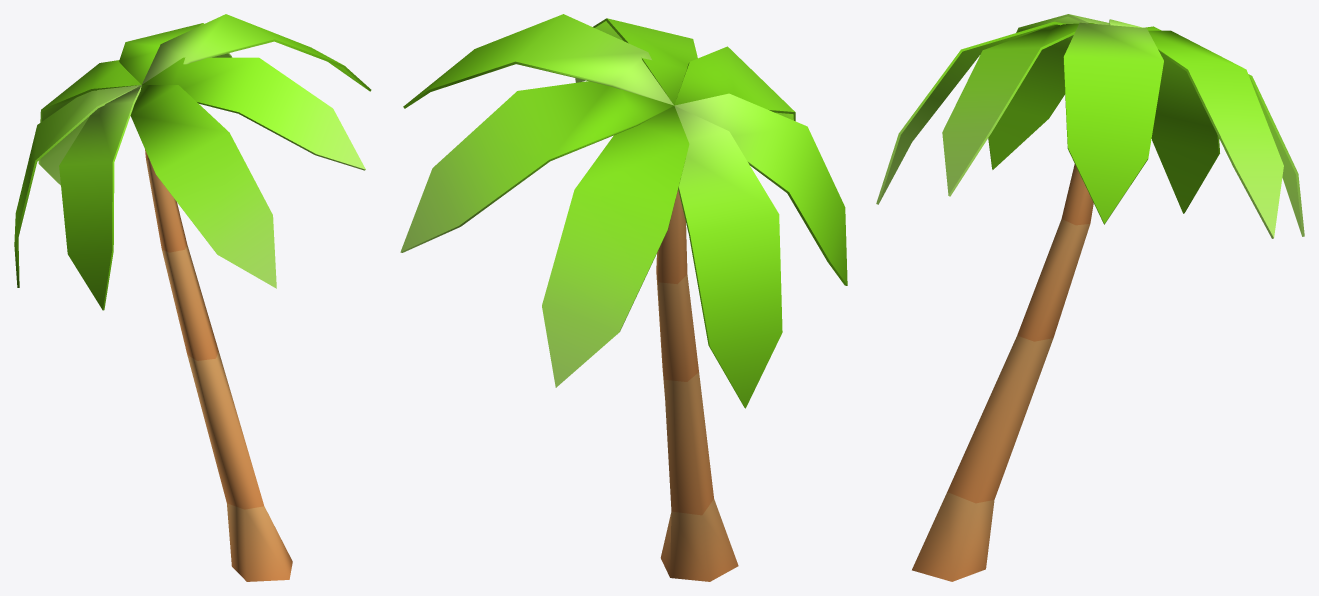
File: Palm_Tree.fbx
The picture shows the model from 3 angles, left to right: view 1: azimuth 30°, elevation 25°; view 2: azimuth 150°, elevation 25°; view 3: azimuth 270°, elevation 25°; orthographic projection. The views are drawn at different scales.
Visible parts, largest first — view 1: Palm_Tree; view 2: Palm_Tree; view 3: Palm_Tree.
Boxes of the visible parts, x1,y1,x2,y2 form: Palm_Tree: (14,14,371,581); Palm_Tree: (400,14,847,581); Palm_Tree: (876,14,1304,581).
Size of the model in its own units: 4.06 by 5.54 by 3.97.
